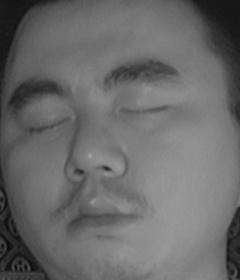blink: (25, 108, 72, 141), (119, 94, 172, 123)
mouth: (57, 190, 141, 243)
